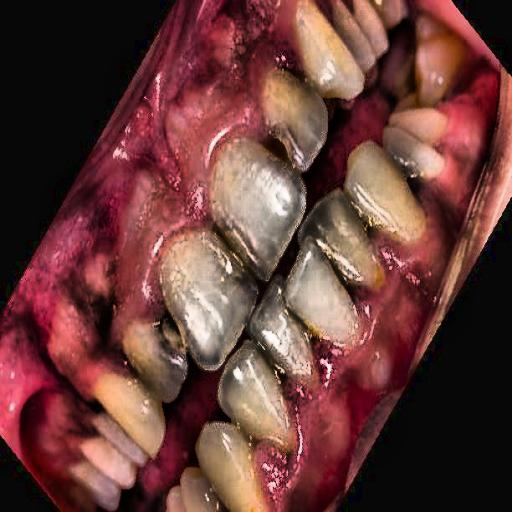Calculus: (336, 186, 418, 289), (144, 274, 206, 367)
